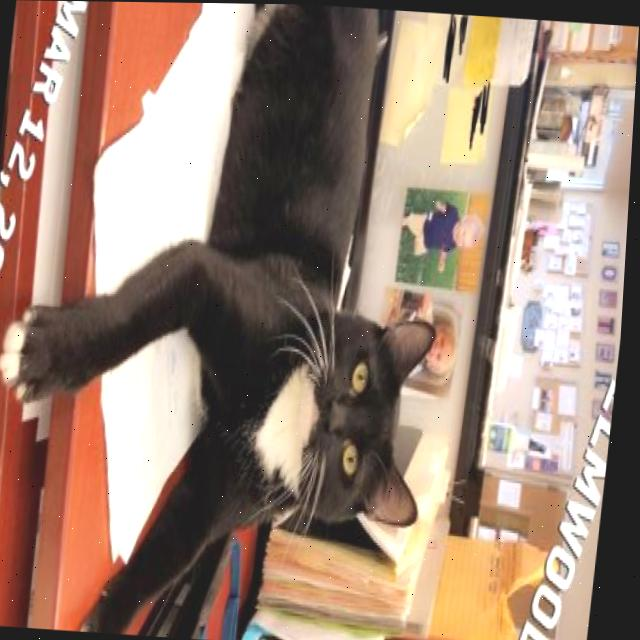Tuxedo: (0, 0, 476, 640)
